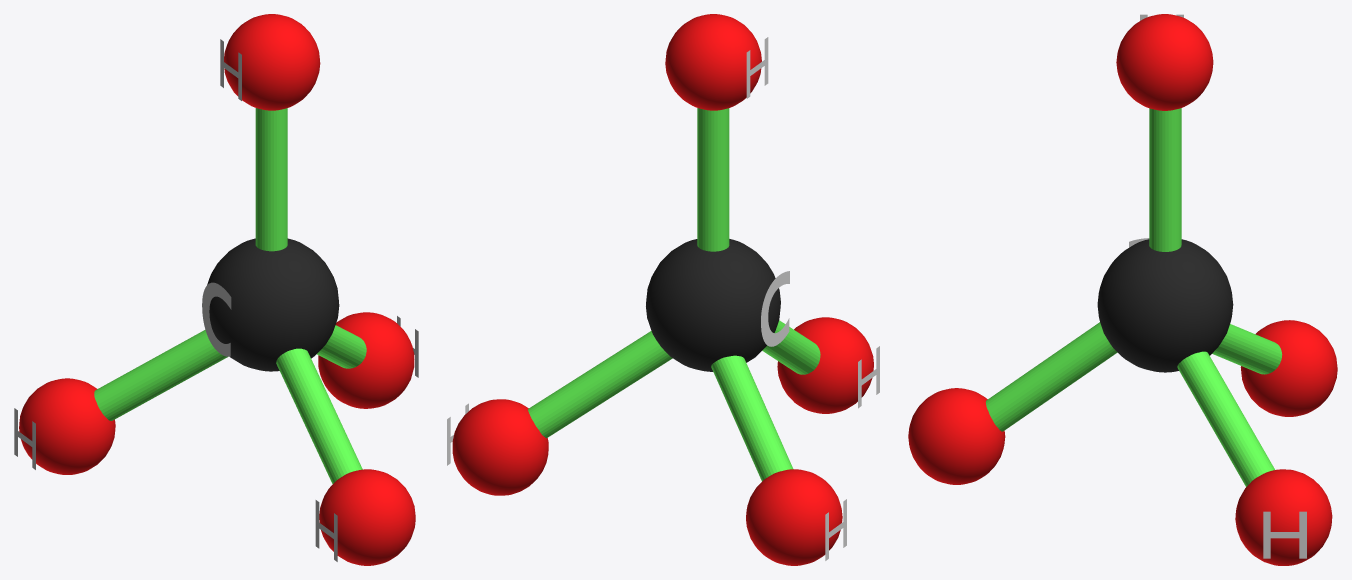
The model's file is methane.fbx.
3 views of the same model, side by side, from view 1: azimuth 30°, elevation 25°; view 2: azimuth 150°, elevation 25°; view 3: azimuth 270°, elevation 25° (orthographic).
Parts seen in each view (by area): view 1: Sphere, Sphere.003, Sphere.004, Sphere.002, Sphere.001, Cylinder.001, Cylinder, Cylinder.002, Cylinder.003, Text.005, Text.007; view 2: Sphere, Sphere.001, Sphere.002, Sphere.004, Sphere.003, Cylinder.003, Cylinder, Cylinder.002, Cylinder.001, Text.005, Text.003; view 3: Sphere, Sphere.004, Sphere.003, Sphere.001, Sphere.002, Cylinder.001, Cylinder.003, Cylinder, Cylinder.002, Text.
Boxes of the visible parts, x1,y1,x2,y2 form: Sphere: [207, 238, 339, 371]; Sphere.003: [319, 469, 415, 565]; Sphere.004: [224, 14, 320, 110]; Sphere.002: [19, 378, 115, 474]; Sphere.001: [318, 312, 414, 408]; Cylinder.001: [276, 348, 362, 483]; Cylinder: [255, 108, 287, 251]; Cylinder.002: [94, 330, 227, 420]; Cylinder.003: [317, 325, 366, 368]; Text.005: [202, 282, 231, 356]; Text.007: [315, 500, 337, 561]; Sphere: [646, 239, 780, 371]; Sphere.001: [452, 399, 548, 495]; Sphere.002: [746, 469, 842, 565]; Sphere.004: [665, 14, 761, 110]; Sphere.003: [777, 317, 873, 413]; Cylinder.003: [528, 331, 672, 438]; Cylinder: [697, 108, 729, 251]; Cylinder.002: [711, 355, 793, 481]; Cylinder.001: [762, 320, 820, 374]; Text.005: [761, 271, 789, 346]; Text.003: [746, 37, 768, 98]; Sphere: [1097, 239, 1233, 372]; Sphere.004: [1116, 14, 1213, 110]; Sphere.003: [908, 388, 1005, 484]; Sphere.001: [1235, 469, 1332, 565]; Sphere.002: [1240, 320, 1337, 416]; Cylinder.001: [985, 322, 1117, 431]; Cylinder.003: [1177, 351, 1274, 486]; Cylinder: [1149, 108, 1181, 251]; Cylinder.002: [1212, 324, 1282, 374]; Text: [1263, 511, 1306, 558].
Size of the model in its own units: 974 by 1143 by 950.
